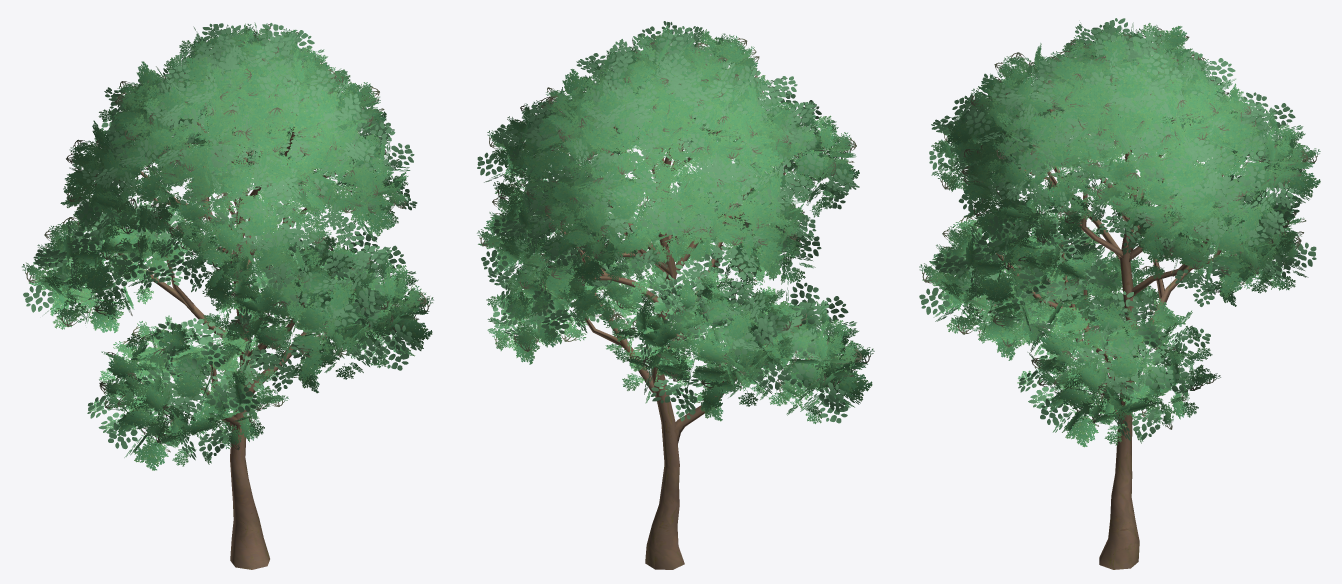
File: Scene_dashu_005.FBX
3 views of the same model, side by side, from view 1: azimuth 30°, elevation 25°; view 2: azimuth 150°, elevation 25°; view 3: azimuth 270°, elevation 25° (orthographic).
Parts seen in each view (by area): view 1: Scene_dashu_005_LOD_0; view 2: Scene_dashu_005_LOD_0; view 3: Scene_dashu_005_LOD_0.
Part boxes in pixels (x1,y1,x2,y2): Scene_dashu_005_LOD_0: (22, 22, 433, 569); Scene_dashu_005_LOD_0: (477, 21, 874, 569); Scene_dashu_005_LOD_0: (919, 18, 1320, 569).
Size of what is drawn, in the model's own units: 768 by 1087 by 768.
